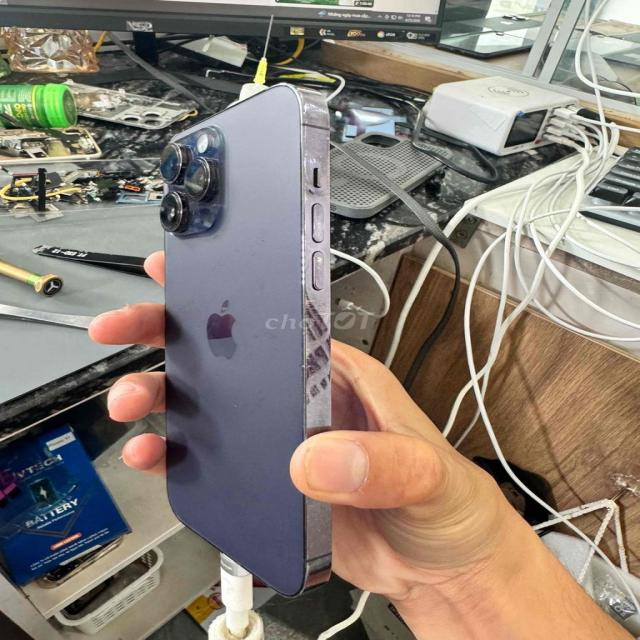gen_14: (136, 75, 360, 596)
scratch: (296, 153, 329, 375), (304, 92, 331, 132), (187, 195, 207, 218), (170, 175, 187, 185)
